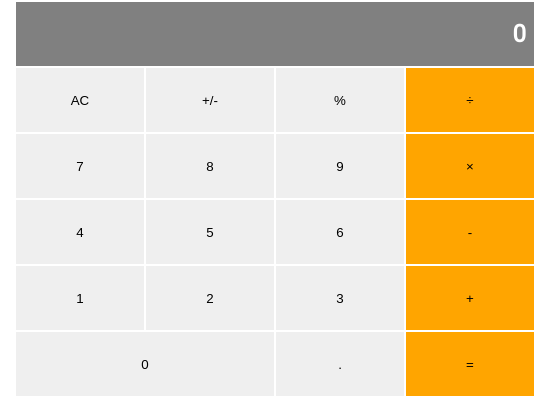
Test: Calculator component tests: › Perform an operation and display its result - test addition 16+23 = 39
Click the button "1" at (80, 298), box [16,266,144,330]
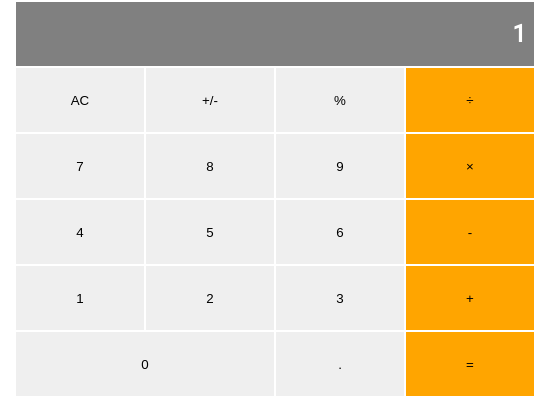
Click the button "6" at (340, 232), box [276,200,404,264]
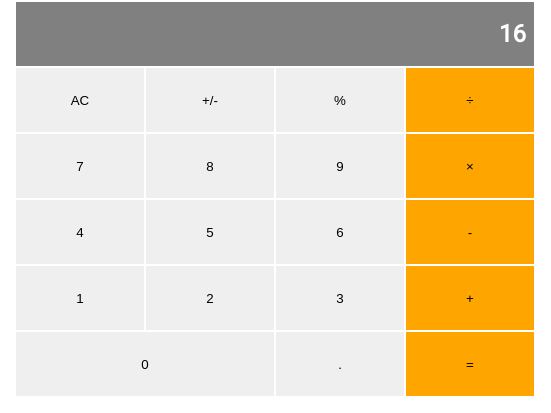
Click the button "+" at (470, 298), box [406,266,534,330]
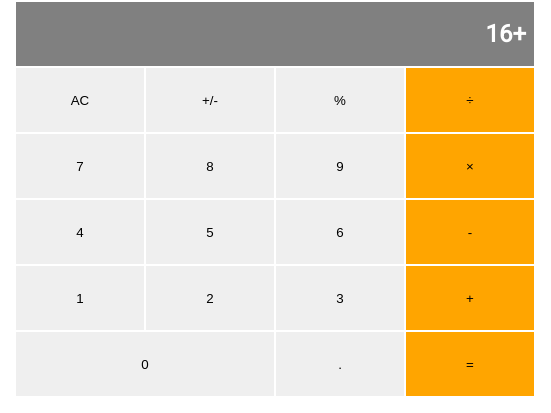
Click the button "2" at (210, 298), box [146,266,274,330]
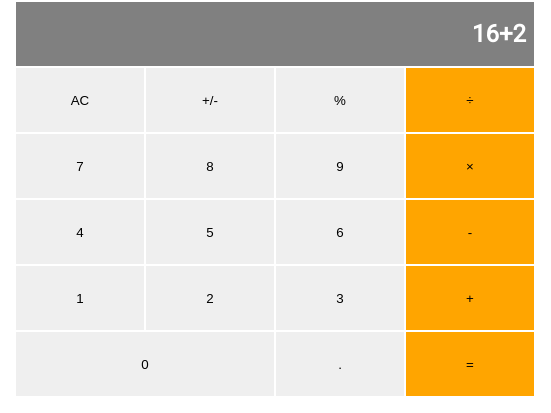
Click the button "3" at (340, 298), box [276,266,404,330]
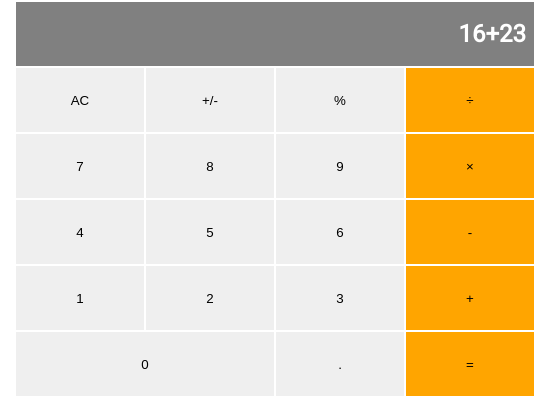
Click the button "=" at (470, 364), box [406,332,534,396]
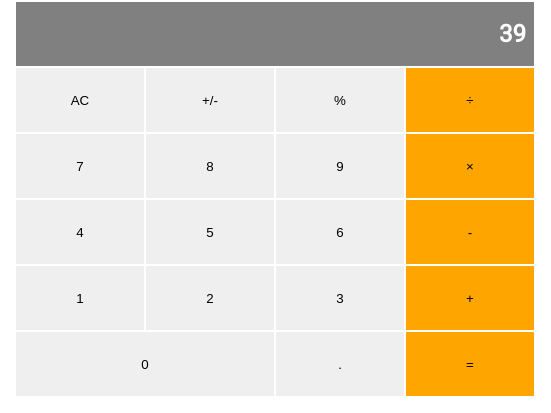
Result: the cell with class "result" reads "39" at [499,20,526,48]
